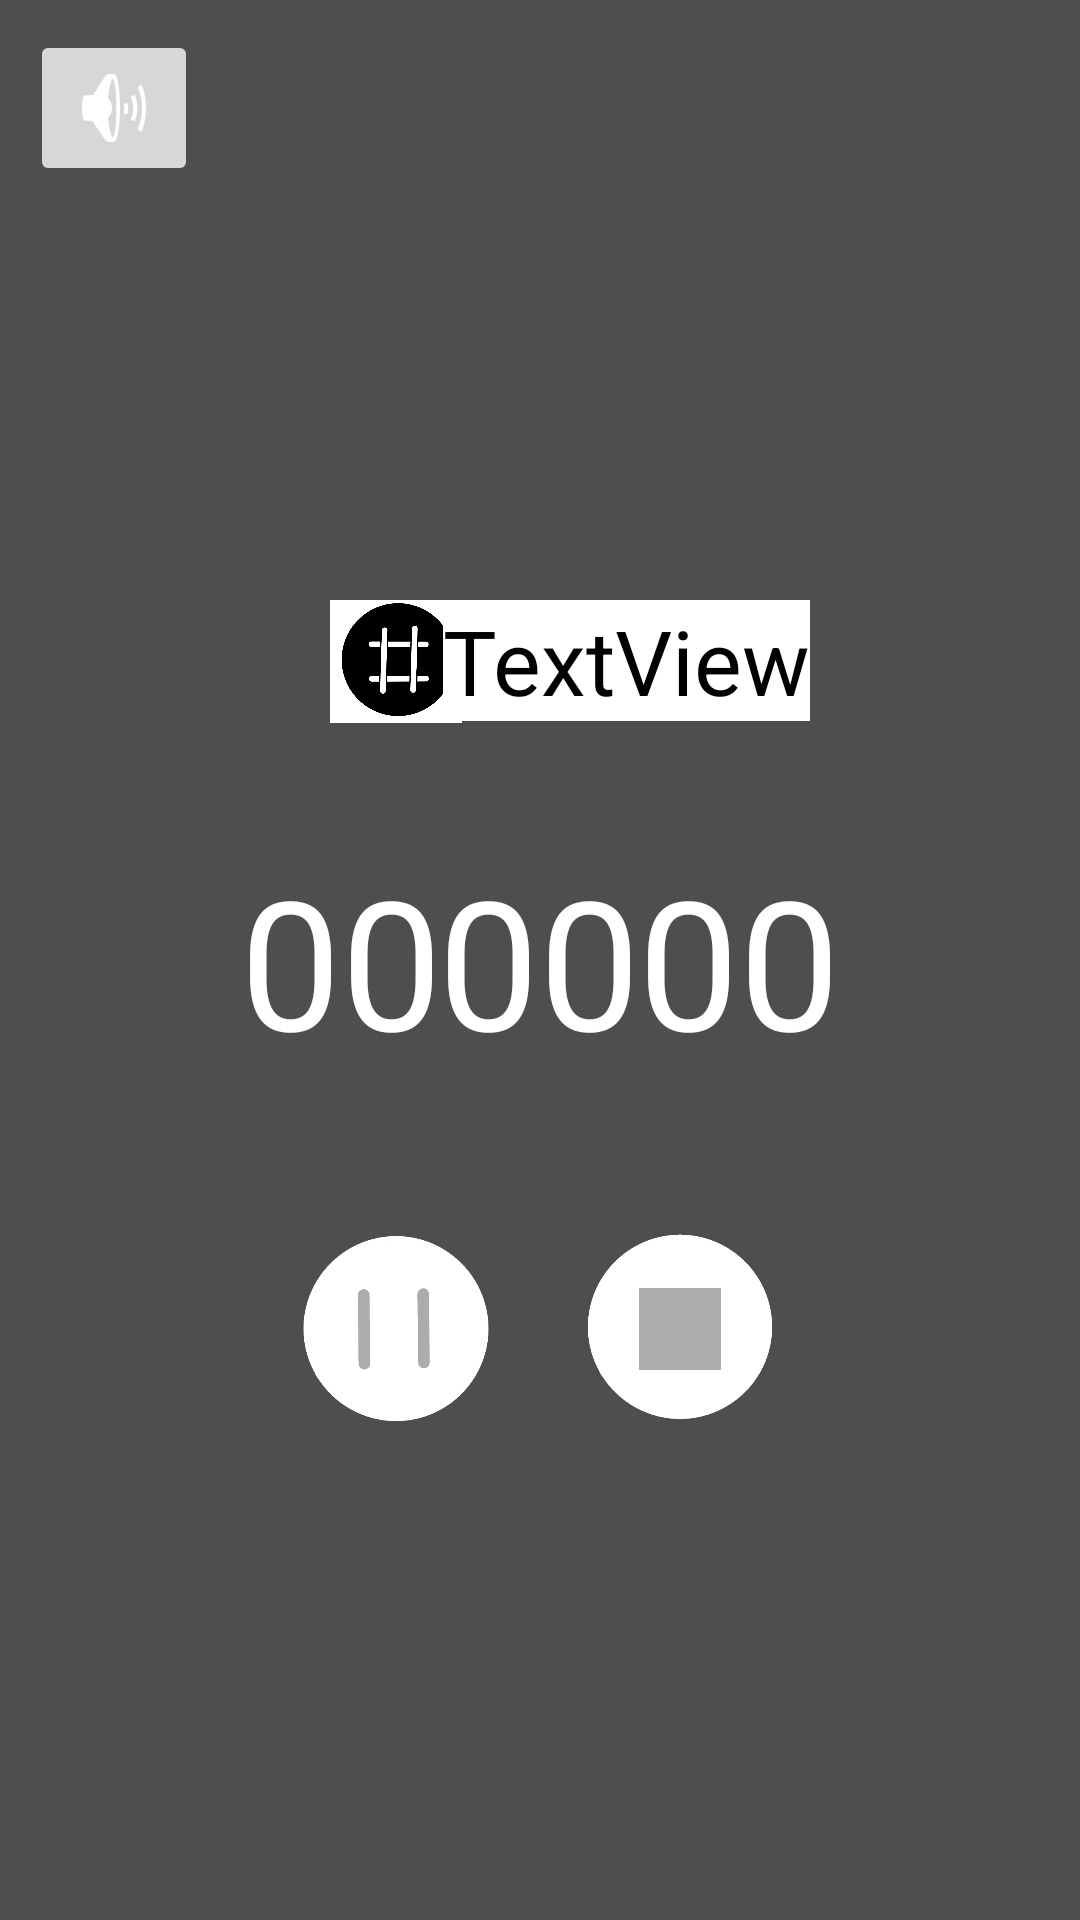

Point at icon controls on the screen. Image size 1080x1920, points as [x,y].
stop: [680,1326]
